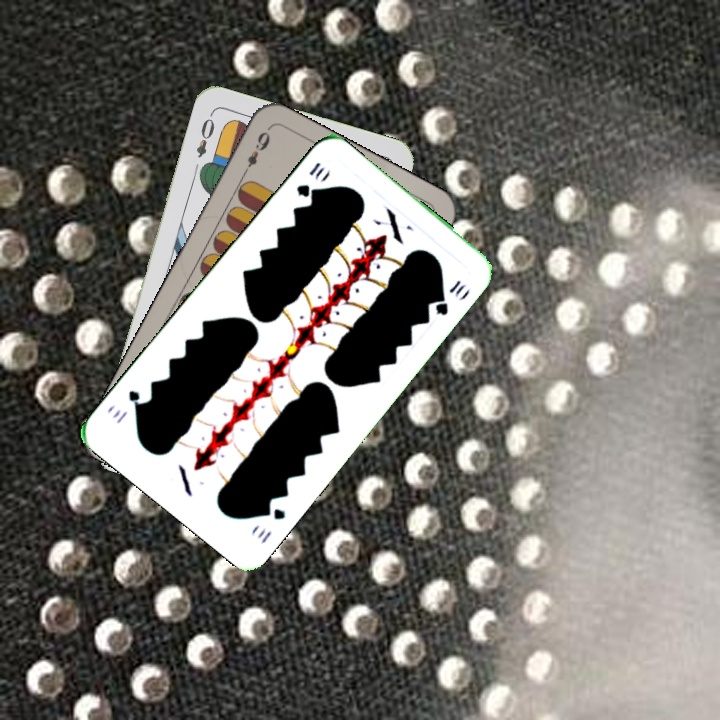E9: (238, 127, 273, 179)
EO: (192, 109, 217, 161)
G10: (252, 500, 288, 547), (292, 158, 329, 200)
